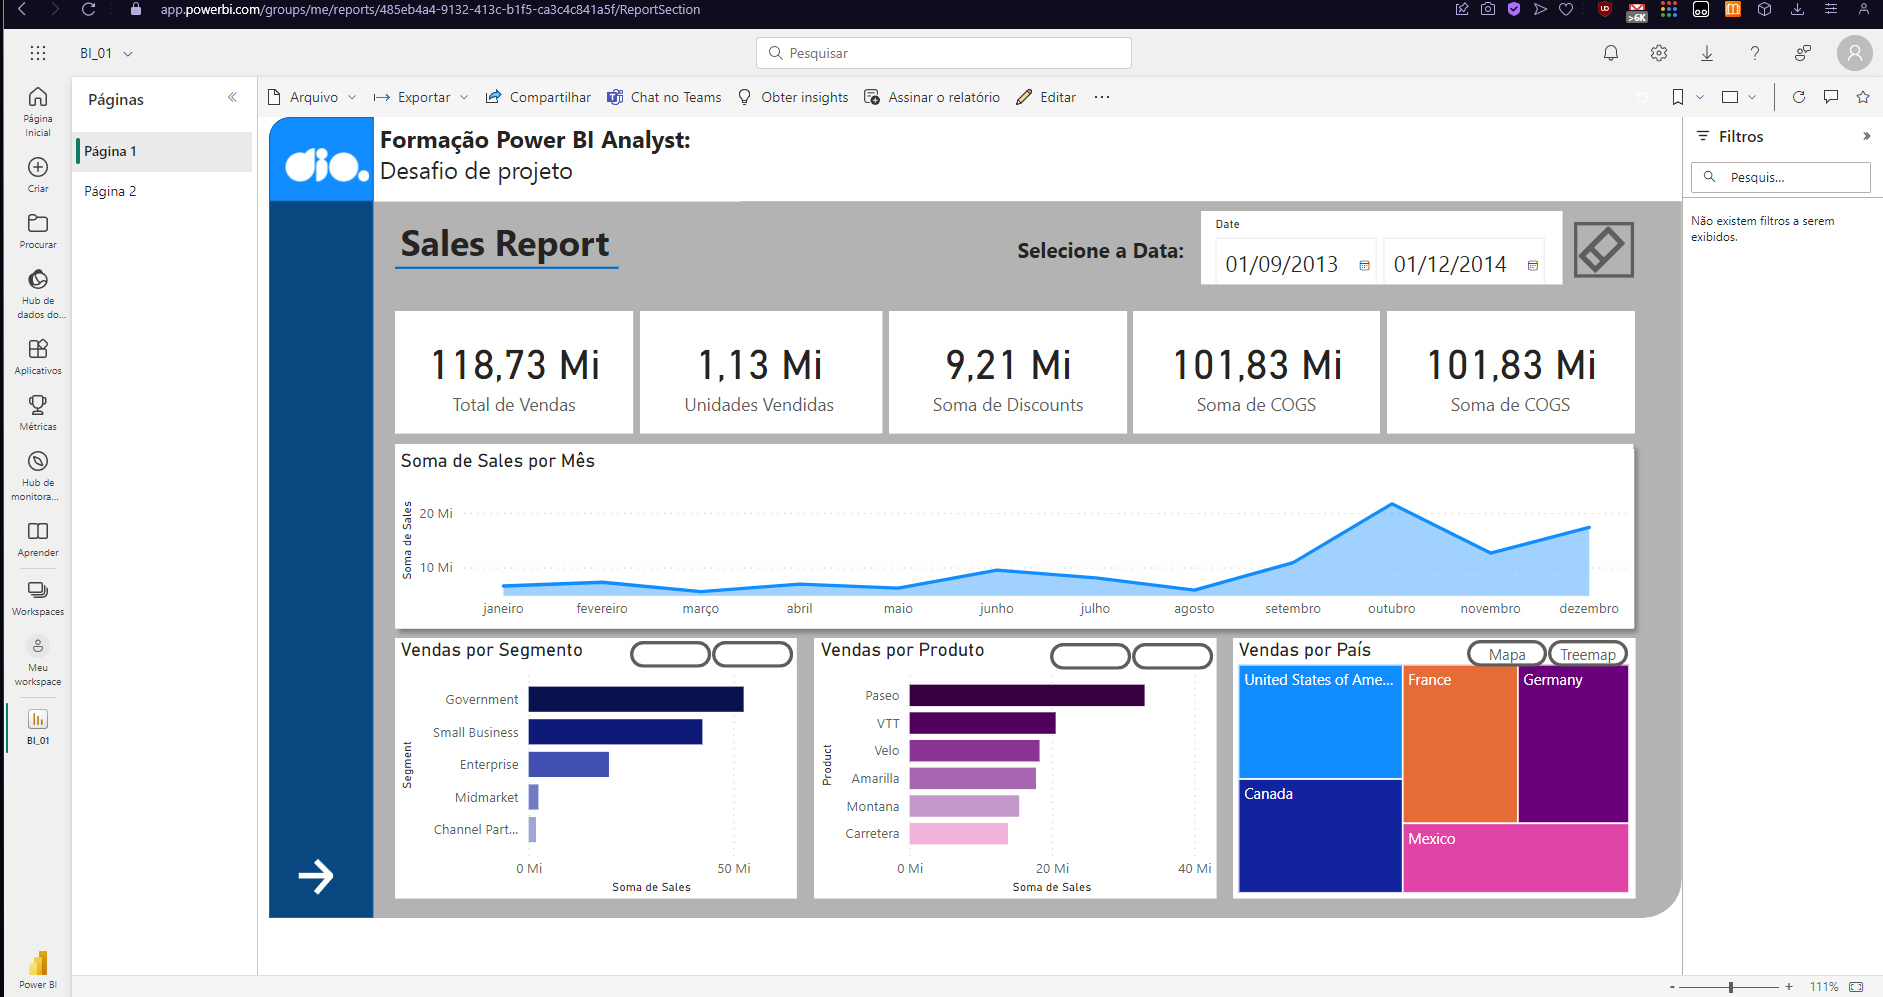

The page's visual inventory and layout, read from the dashboard file:
{"tool":"powerbi","page":{"name":"Página 1","canvas":[1280,720],"ordinal":0},"visuals":[{"type":"shape","box":[9.7,0,1270.3,720.2],"z":0},{"type":"shape","box":[122.8,174.7,213.7,110.3],"z":0,"group":"g1"},{"type":"shape","box":[122.8,468.7,360.6,234.4],"z":0,"group":"g2"},{"type":"shape","box":[9.7,0,94.3,720.2],"z":1000},{"type":"shape","box":[343.8,174.6,217.4,110.3],"z":1000,"group":"g1"},{"type":"shape","box":[876.6,468.7,360.6,234.4],"z":1000,"group":"g2"},{"type":"shape","box":[9.7,0,94.3,75.8],"z":2000},{"type":"shape","box":[566.7,174.7,213.7,110.3],"z":2000,"group":"g1"},{"type":"shape","box":[499.1,468.7,360.6,234.4],"z":2000,"group":"g2"},{"type":"image","box":[19.4,0,84.6,84.6],"z":3000},{"type":"shape","box":[786.5,174.6,221.9,110.3],"z":3000,"group":"g1"},{"type":"shape","box":[104,0,1176,75.8],"z":4000},{"type":"shape","box":[1015.2,174.6,221.9,110.3],"z":4000,"group":"g1"},{"type":"textbox","box":[104,0,328.5,75.8],"z":5000},{"type":"group","id":"g1","title":"Cartões","box":[122.8,174.6,1114.4,110.4],"z":6000},{"type":"textbox","box":[122.8,84.5,224.2,57.5],"z":7000},{"type":"shape","box":[122.8,119.4,200.6,31.5],"z":8000},{"type":"shape","box":[113.8,285.1,1131.3,183.7],"z":9000},{"type":"areaChart","fields":{"Category":["financials.Date.Variation.Hierarquia de datas.Mês"],"Y":["Sum(financials. Sales)"]},"box":[122.8,298.6,1114.4,161.1],"z":10000},{"type":"group","id":"g2","title":"Grupo 1","box":[122.8,468.7,1114.4,234.4],"z":11000},{"type":"card","fields":{"Values":["Sum(financials. Sales)"]},"box":[122.8,174.6,214.1,110.4],"z":12000},{"type":"card","fields":{"Values":["Sum(financials.Units Sold)"]},"box":[343.7,174.6,214.1,110.4],"z":13000},{"type":"card","fields":{"Values":["Sum(financials.Discounts)"]},"box":[566.8,174.6,214.1,110.4],"z":14000},{"type":"card","fields":{"Values":["Sum(financials.COGS)"]},"box":[786.5,174.6,222,110.4],"z":15000},{"type":"card","fields":{"Values":["Sum(financials.COGS)"]},"box":[1015.2,174.6,222,110.4],"z":16000},{"type":"clusteredBarChart","title":"Vendas por Segmento","fields":{"Y":["Sum(financials. Sales)"],"Category":["financials.Segment"]},"box":[122.8,468.7,360.6,234.4],"z":17000},{"type":"clusteredBarChart","title":"Vendas por Produto","fields":{"Y":["Sum(financials. Sales)"],"Category":["financials.Product"]},"box":[500.3,468.7,360.6,234.4],"z":18000},{"type":"treemap","title":"Vendas por País","fields":{"Group":["financials.Country"],"Values":["Sum(financials. Sales)"]},"box":[876.7,468.5,360.6,234.2],"z":18500},{"type":"slicer","fields":{"Values":["financials.Date"]},"box":[847.3,84.5,324.5,66.5],"z":20000},{"type":"textbox","box":[644.5,84.5,192.7,66.5],"z":21000},{"type":"actionButton","box":[1183.1,94.6,54.1,49.6],"z":22000},{"type":"actionButton","box":[30.4,662.5,51.8,40.6],"z":23000},{"type":"actionButton","box":[334.6,470.9,73.2,23.7],"z":24000},{"type":"actionButton","box":[407.9,470.9,73.2,23.7],"z":25000},{"type":"actionButton","box":[712.2,473.2,73.2,23.7],"z":26000},{"type":"actionButton","box":[785.5,473.2,73.2,23.7],"z":27000},{"type":"actionButton","box":[1087,470.5,72.4,24.1],"z":28000},{"type":"actionButton","box":[1159.4,470.5,72.4,24.1],"z":29000}]}

Visuals, with their boxes on the page's 1280x720 design canvas (x1, y1, x2, y2). These are canvas units, not pixel positions in the 1883x997 screenshot, which may show the page scaled, cropped or inside an application window:
shape: box(10, 0, 1280, 720)
shape: box(123, 175, 336, 285)
shape: box(123, 469, 483, 703)
shape: box(10, 0, 104, 720)
shape: box(344, 175, 561, 285)
shape: box(877, 469, 1237, 703)
shape: box(10, 0, 104, 76)
shape: box(567, 175, 780, 285)
shape: box(499, 469, 860, 703)
image: box(19, 0, 104, 85)
shape: box(786, 175, 1008, 285)
shape: box(104, 0, 1280, 76)
shape: box(1015, 175, 1237, 285)
textbox: box(104, 0, 432, 76)
"Cartões" group: box(123, 175, 1237, 285)
textbox: box(123, 84, 347, 142)
shape: box(123, 119, 323, 151)
shape: box(114, 285, 1245, 469)
areaChart - financials.Date.Variation.Hierarquia de datas.Mês x Sum(financials. Sales): box(123, 299, 1237, 460)
"Grupo 1" group: box(123, 469, 1237, 703)
card - Sum(financials. Sales): box(123, 175, 337, 285)
card - Sum(financials.Units Sold): box(344, 175, 558, 285)
card - Sum(financials.Discounts): box(567, 175, 781, 285)
card - Sum(financials.COGS): box(786, 175, 1008, 285)
card - Sum(financials.COGS): box(1015, 175, 1237, 285)
"Vendas por Segmento" clusteredBarChart: box(123, 469, 483, 703)
"Vendas por Produto" clusteredBarChart: box(500, 469, 861, 703)
"Vendas por País" treemap: box(877, 468, 1237, 703)
slicer - financials.Date: box(847, 84, 1172, 151)
textbox: box(644, 84, 837, 151)
actionButton: box(1183, 95, 1237, 144)
actionButton: box(30, 662, 82, 703)
actionButton: box(335, 471, 408, 495)
actionButton: box(408, 471, 481, 495)
actionButton: box(712, 473, 785, 497)
actionButton: box(786, 473, 859, 497)
actionButton: box(1087, 470, 1159, 495)
actionButton: box(1159, 470, 1232, 495)
